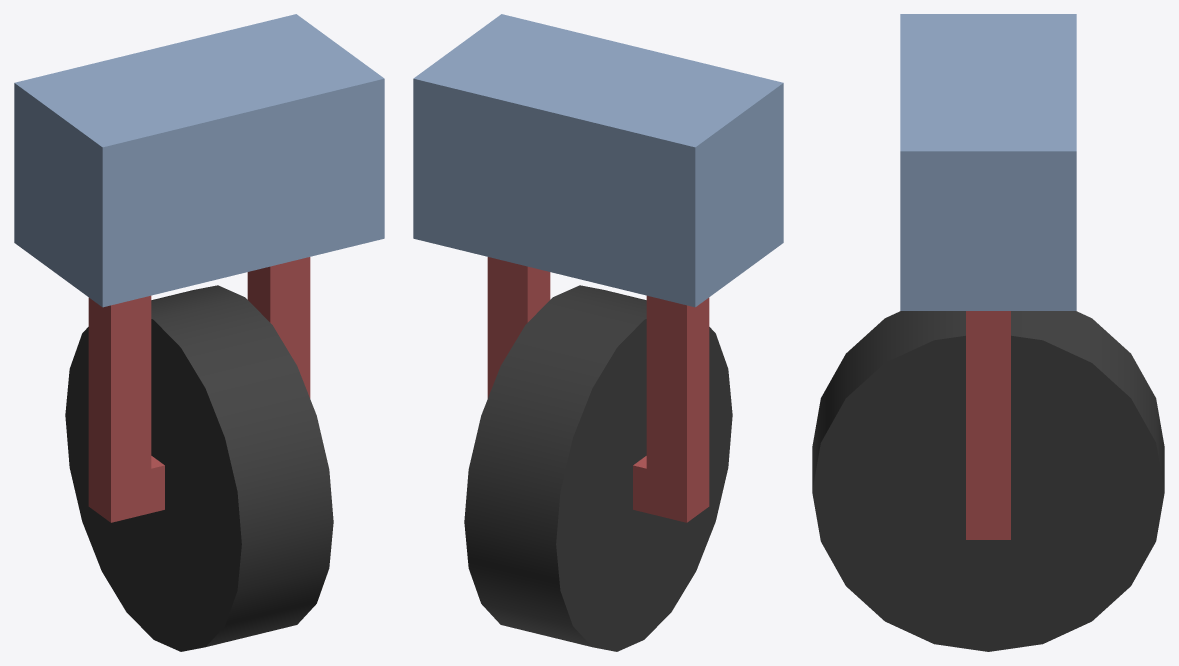
File: Robot_Legs_v4_Rigged.fbx
3 views of the same model, side by side, from view 1: azimuth 30°, elevation 25°; view 2: azimuth 150°, elevation 25°; view 3: azimuth 270°, elevation 25° (orthographic).
Visible parts, largest first — view 1: Legs; view 2: Legs; view 3: Legs.
Part boxes in pixels (x1=…): Legs: x1=14, y1=14, x2=384, y2=651; Legs: x1=413, y1=14, x2=783, y2=651; Legs: x1=812, y1=14, x2=1164, y2=651.
Size of the model in its own units: 184 by 342 by 200.
